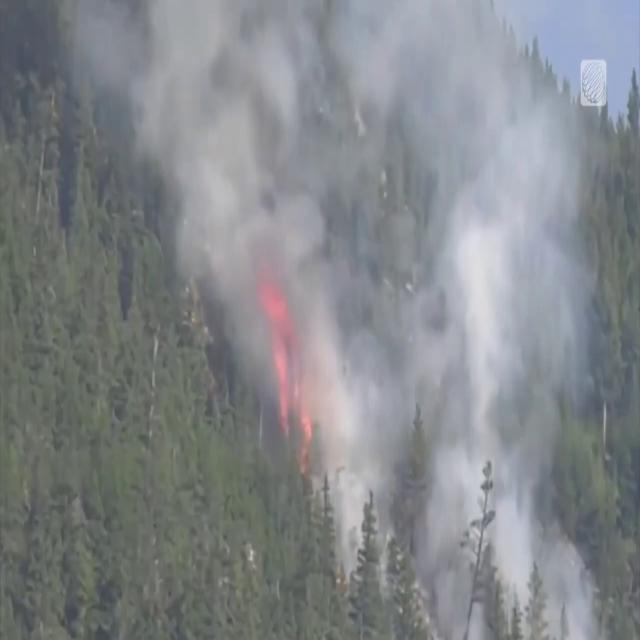Smoke: (103, 0, 607, 629)
